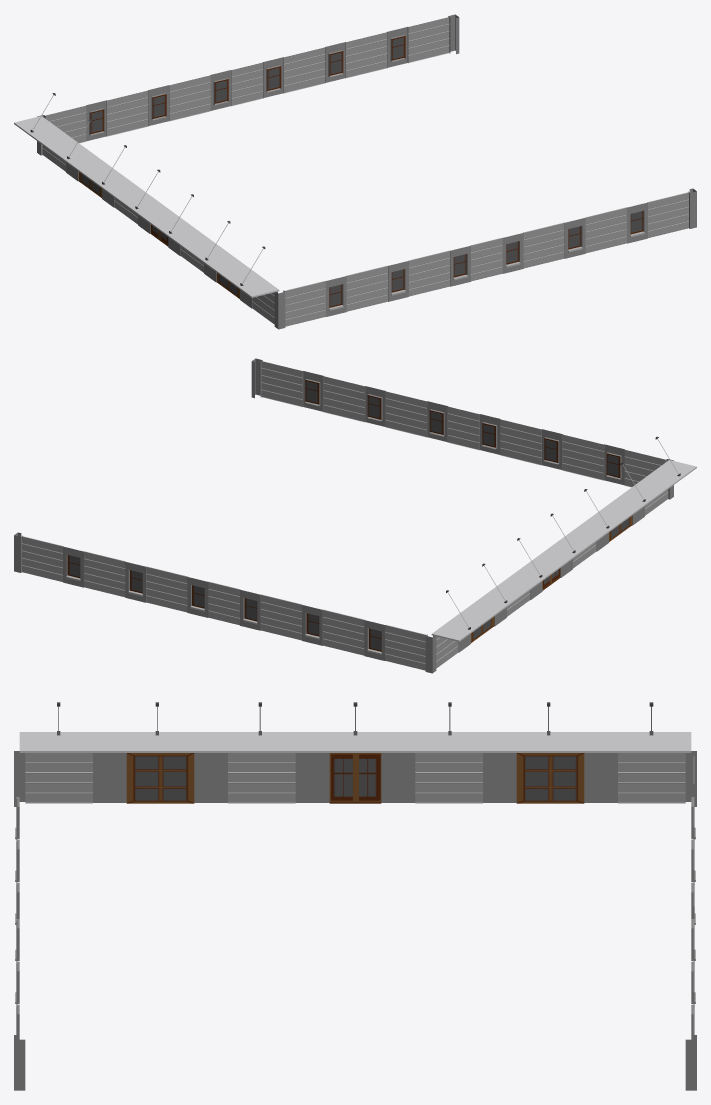
Rendered from BuildingBig4_1.fbx.
The picture shows the model from 3 angles, top to bottom: view 1: azimuth 30°, elevation 25°; view 2: azimuth 150°, elevation 25°; view 3: azimuth 270°, elevation 25°; orthographic projection. The views are drawn at different scales.
Parts seen in each view (by area): view 1: BuildingBig4_1; view 2: BuildingBig4_1; view 3: BuildingBig4_1.
Boxes of the visible parts, x1,y1,x2,y2 form: BuildingBig4_1: [14, 14, 696, 329]; BuildingBig4_1: [14, 358, 696, 673]; BuildingBig4_1: [14, 702, 696, 1090].
Bounding box in the file's own units: 6420 × 978 × 6060.
